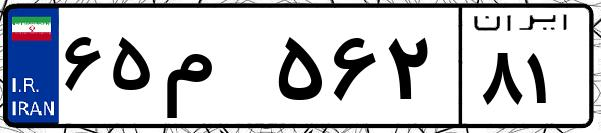1: (525, 38, 570, 115)
2: (385, 28, 445, 110)
5: (270, 28, 330, 110), (110, 28, 158, 98)
6: (330, 28, 385, 110), (57, 26, 110, 100)
8: (475, 38, 525, 113)
م: (158, 20, 270, 120)
